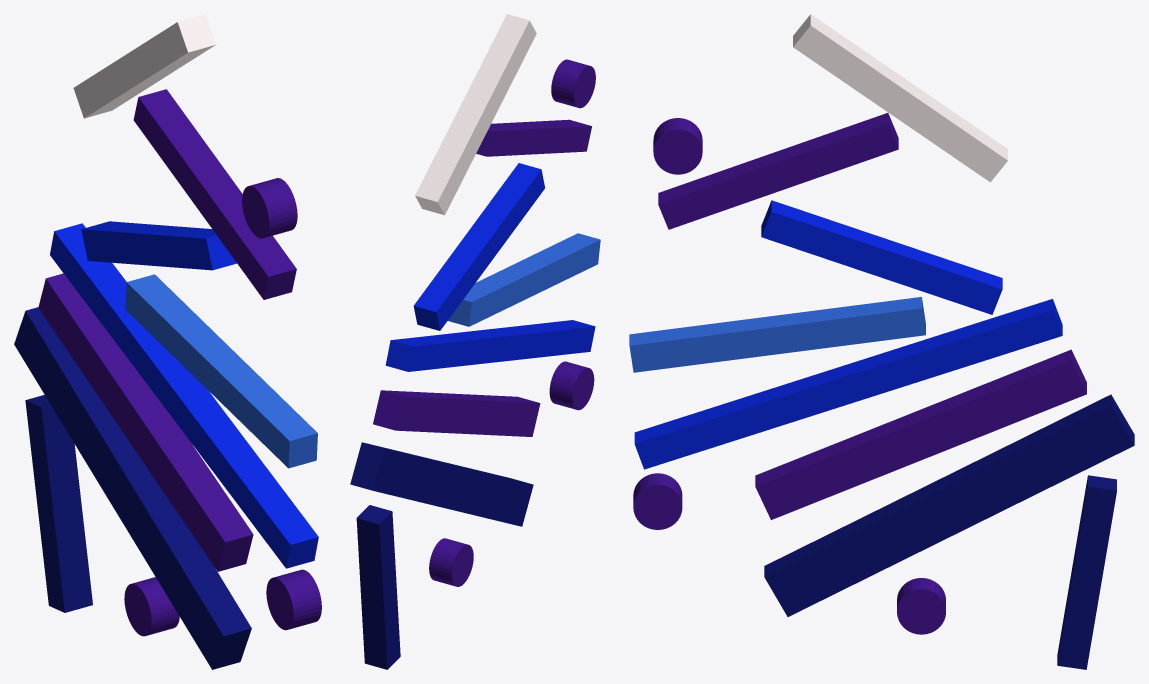
File: espontaniedad.fbx
3 views of the same model, side by side, from view 1: azimuth 30°, elevation 25°; view 2: azimuth 150°, elevation 25°; view 3: azimuth 270°, elevation 25° (orthographic). The views are drawn at different scales.
Visible parts, largest first — view 1: Cube.011; view 2: Cube.011; view 3: Cube.011.
Boxes of the visible parts, x1,y1,x2,y2 form: Cube.011: (14,14,321,669); Cube.011: (350,14,600,669); Cube.011: (629,14,1134,669).
Size of the model in its own units: 111 by 1424 by 1026.
